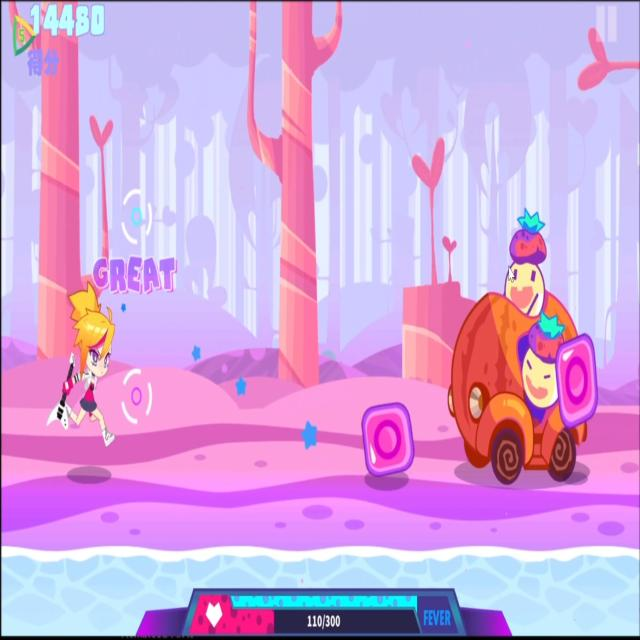Ground-Monster---Cube: (358, 395, 416, 489)
